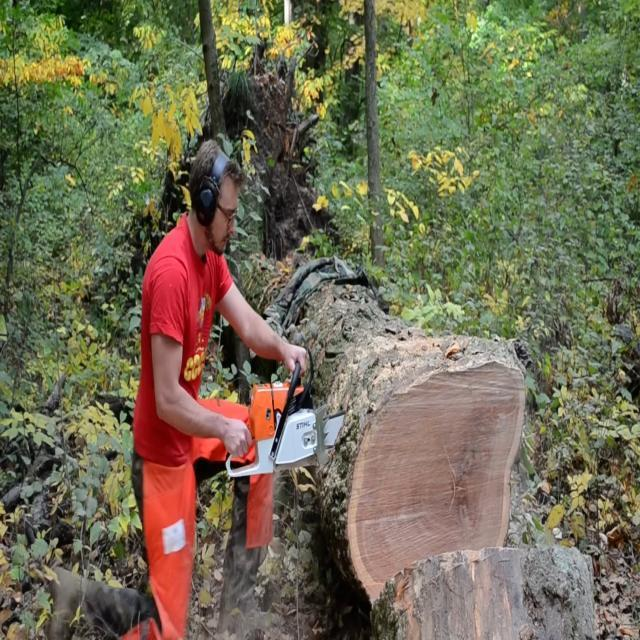Chainsaw: (214, 361, 374, 492)
